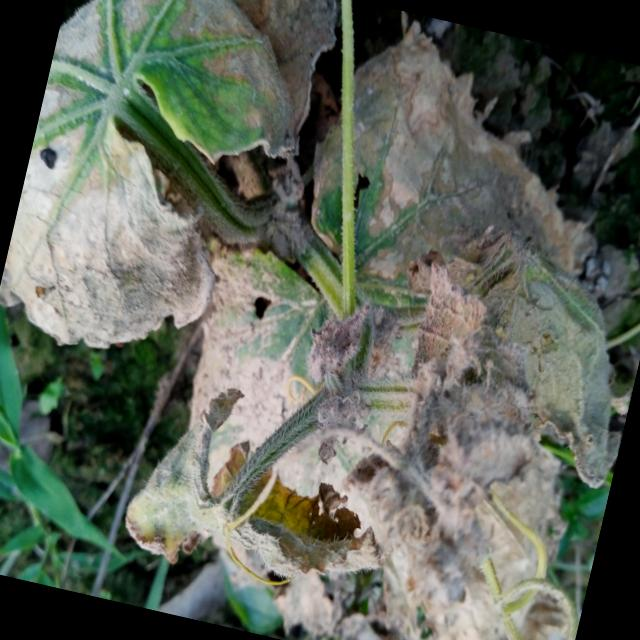cucumber_bacterial: (111, 0, 640, 640), (0, 0, 337, 388)
